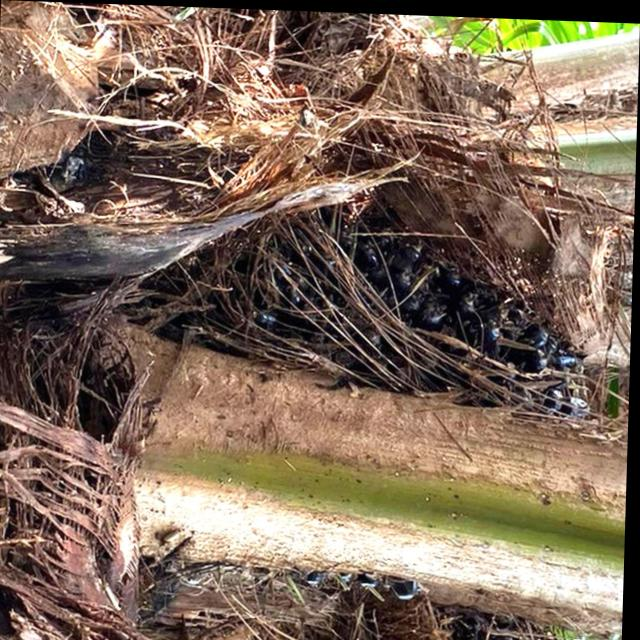unripe: (155, 193, 614, 439)
